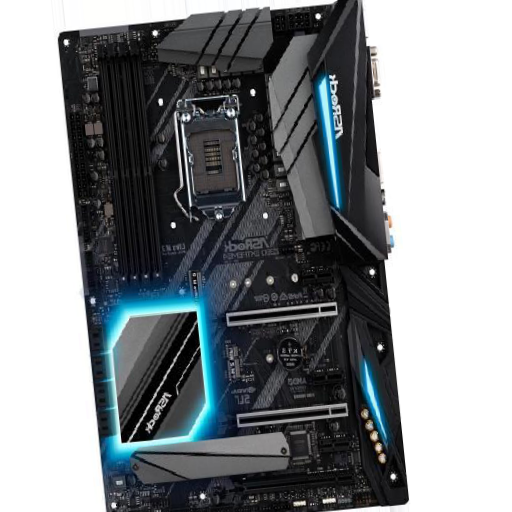CPU: (178, 105, 245, 223)
GPU: (217, 402, 349, 434), (205, 305, 339, 336)
MOTHERBOARD: (54, 2, 411, 505)
RAM: (93, 33, 167, 291)
SSD: (222, 341, 242, 383), (186, 270, 206, 306)
